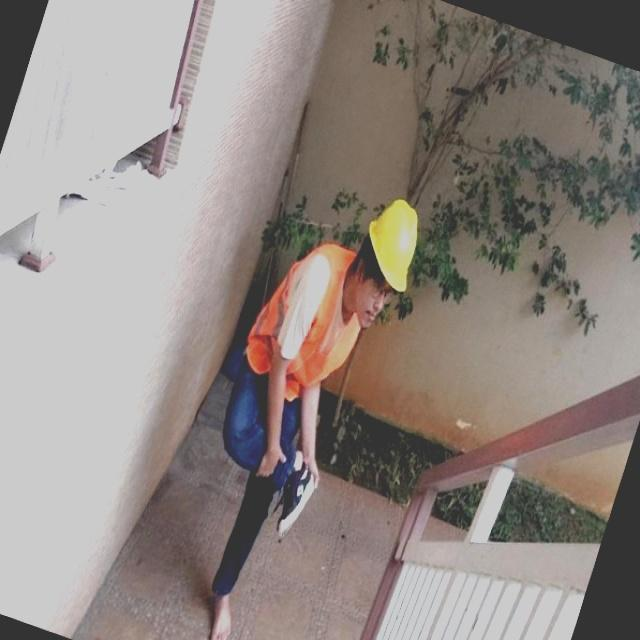helmet: (361, 190, 422, 300)
safety_vest: (235, 239, 388, 406)
